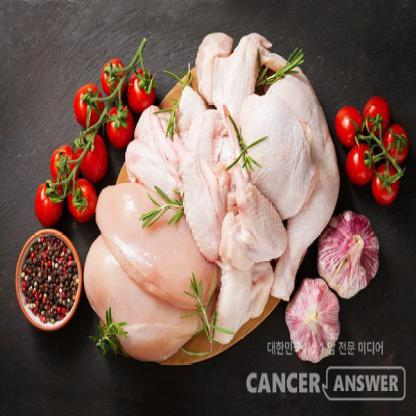chicken: (90, 186, 225, 314), (78, 233, 209, 360), (223, 73, 320, 218), (170, 134, 232, 270), (221, 180, 291, 277), (210, 43, 270, 127), (131, 102, 180, 200)
